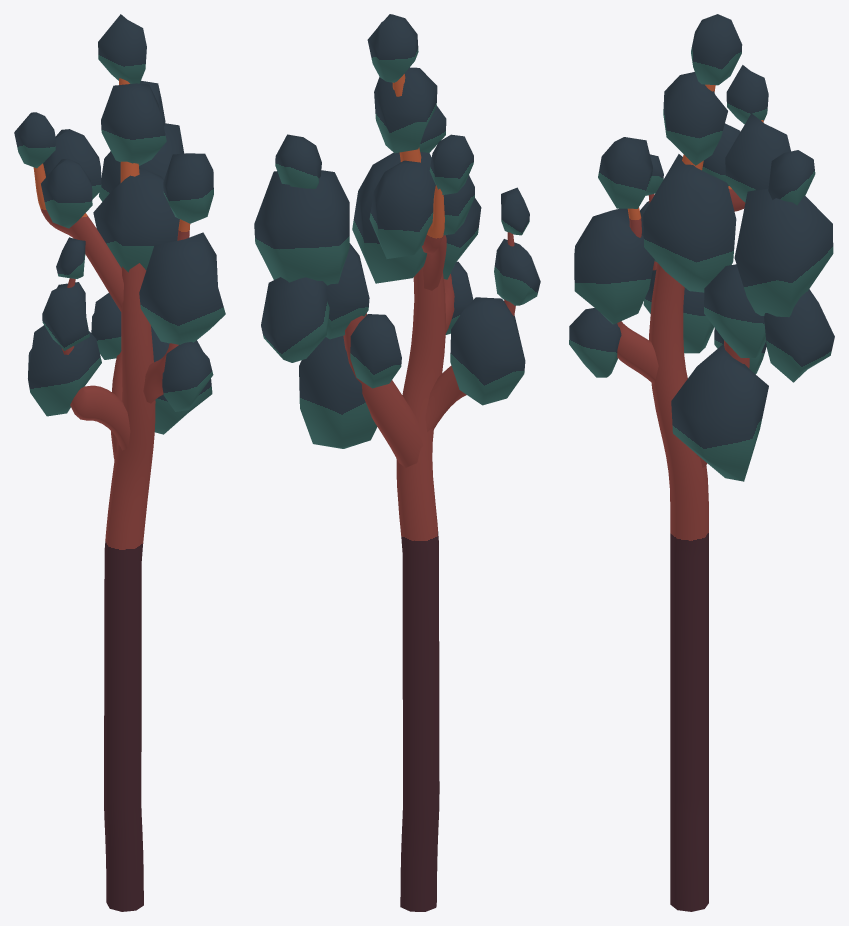
Rendered from tree01.glb.
3 renders of one model, left to right at view 1: azimuth 30°, elevation 25°; view 2: azimuth 150°, elevation 25°; view 3: azimuth 270°, elevation 25°, orthographic. The views are drawn at different scales.
Visible parts, largest first — view 1: Tree01; view 2: Tree01; view 3: Tree01.
Part boxes in pixels (<box>): Tree01: <box>14,14,225,911</box>; Tree01: <box>254,14,540,911</box>; Tree01: <box>569,14,834,911</box>.
Size of the model in its own units: 11.18 by 44.02 by 11.87.
Materials: 1 (1 with a texture image).
